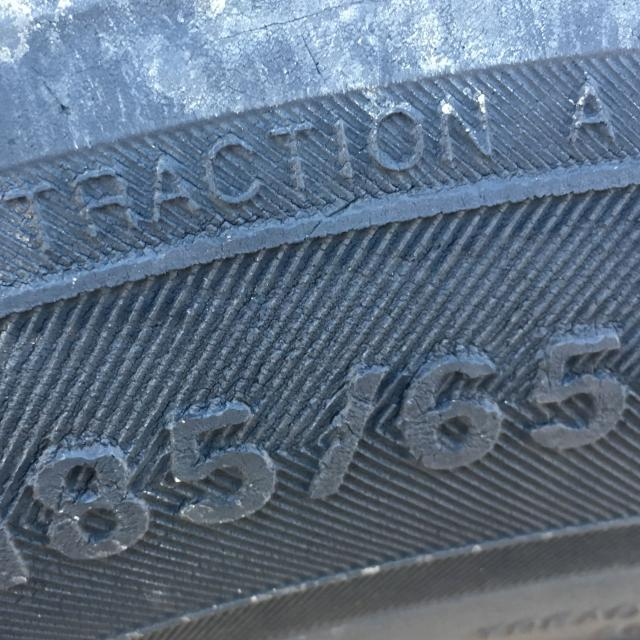Cracks: (0, 112, 640, 600), (182, 1, 400, 89), (23, 53, 120, 110)
